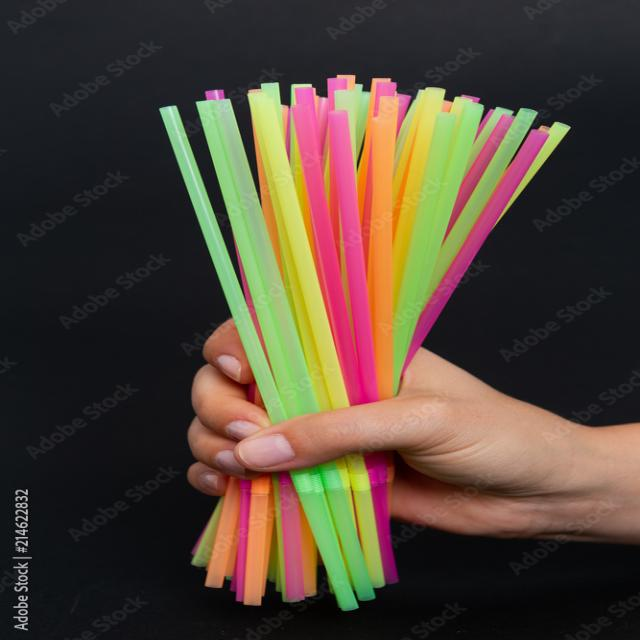plastic: (323, 90, 373, 400)
